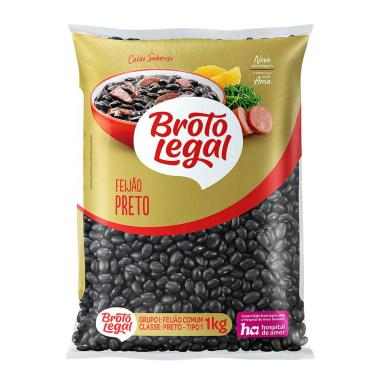beans package: (68, 26, 312, 358)
